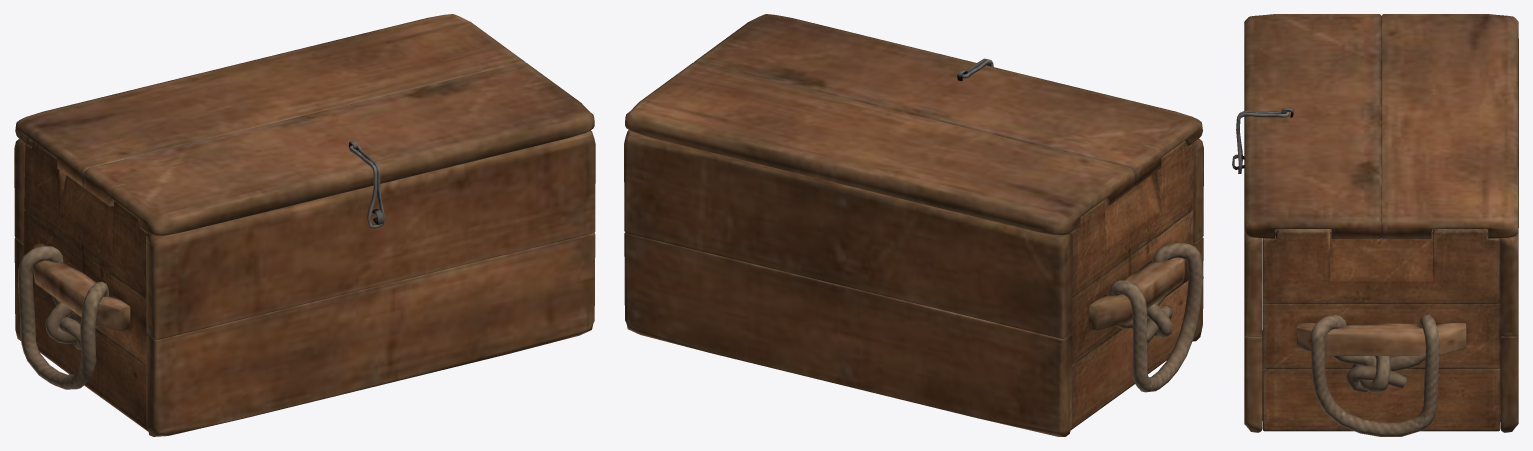
File: wooden_crate_01.glb
The picture shows the model from 3 angles, left to right: view 1: azimuth 30°, elevation 25°; view 2: azimuth 150°, elevation 25°; view 3: azimuth 270°, elevation 25°; orthographic projection. The views are drawn at different scales.
Parts seen in each view (by area): view 1: wooden_crate_01, wooden_crate_01_lid, wooden_crate_01_latch; view 2: wooden_crate_01, wooden_crate_01_lid; view 3: wooden_crate_01_lid, wooden_crate_01, wooden_crate_01_latch.
Part boxes in pixels (bbox=[...]): wooden_crate_01: bbox=[14, 130, 595, 436]; wooden_crate_01_lid: bbox=[15, 14, 594, 236]; wooden_crate_01_latch: bbox=[349, 145, 384, 228]; wooden_crate_01: bbox=[624, 130, 1203, 436]; wooden_crate_01_lid: bbox=[625, 14, 1202, 235]; wooden_crate_01_lid: bbox=[1244, 14, 1518, 238]; wooden_crate_01: bbox=[1232, 154, 1518, 436]; wooden_crate_01_latch: bbox=[1236, 111, 1289, 173].
Size of the model in its own units: 0.8253 by 0.3495 by 0.4085.
Materials: 1 (1 with a texture image).
